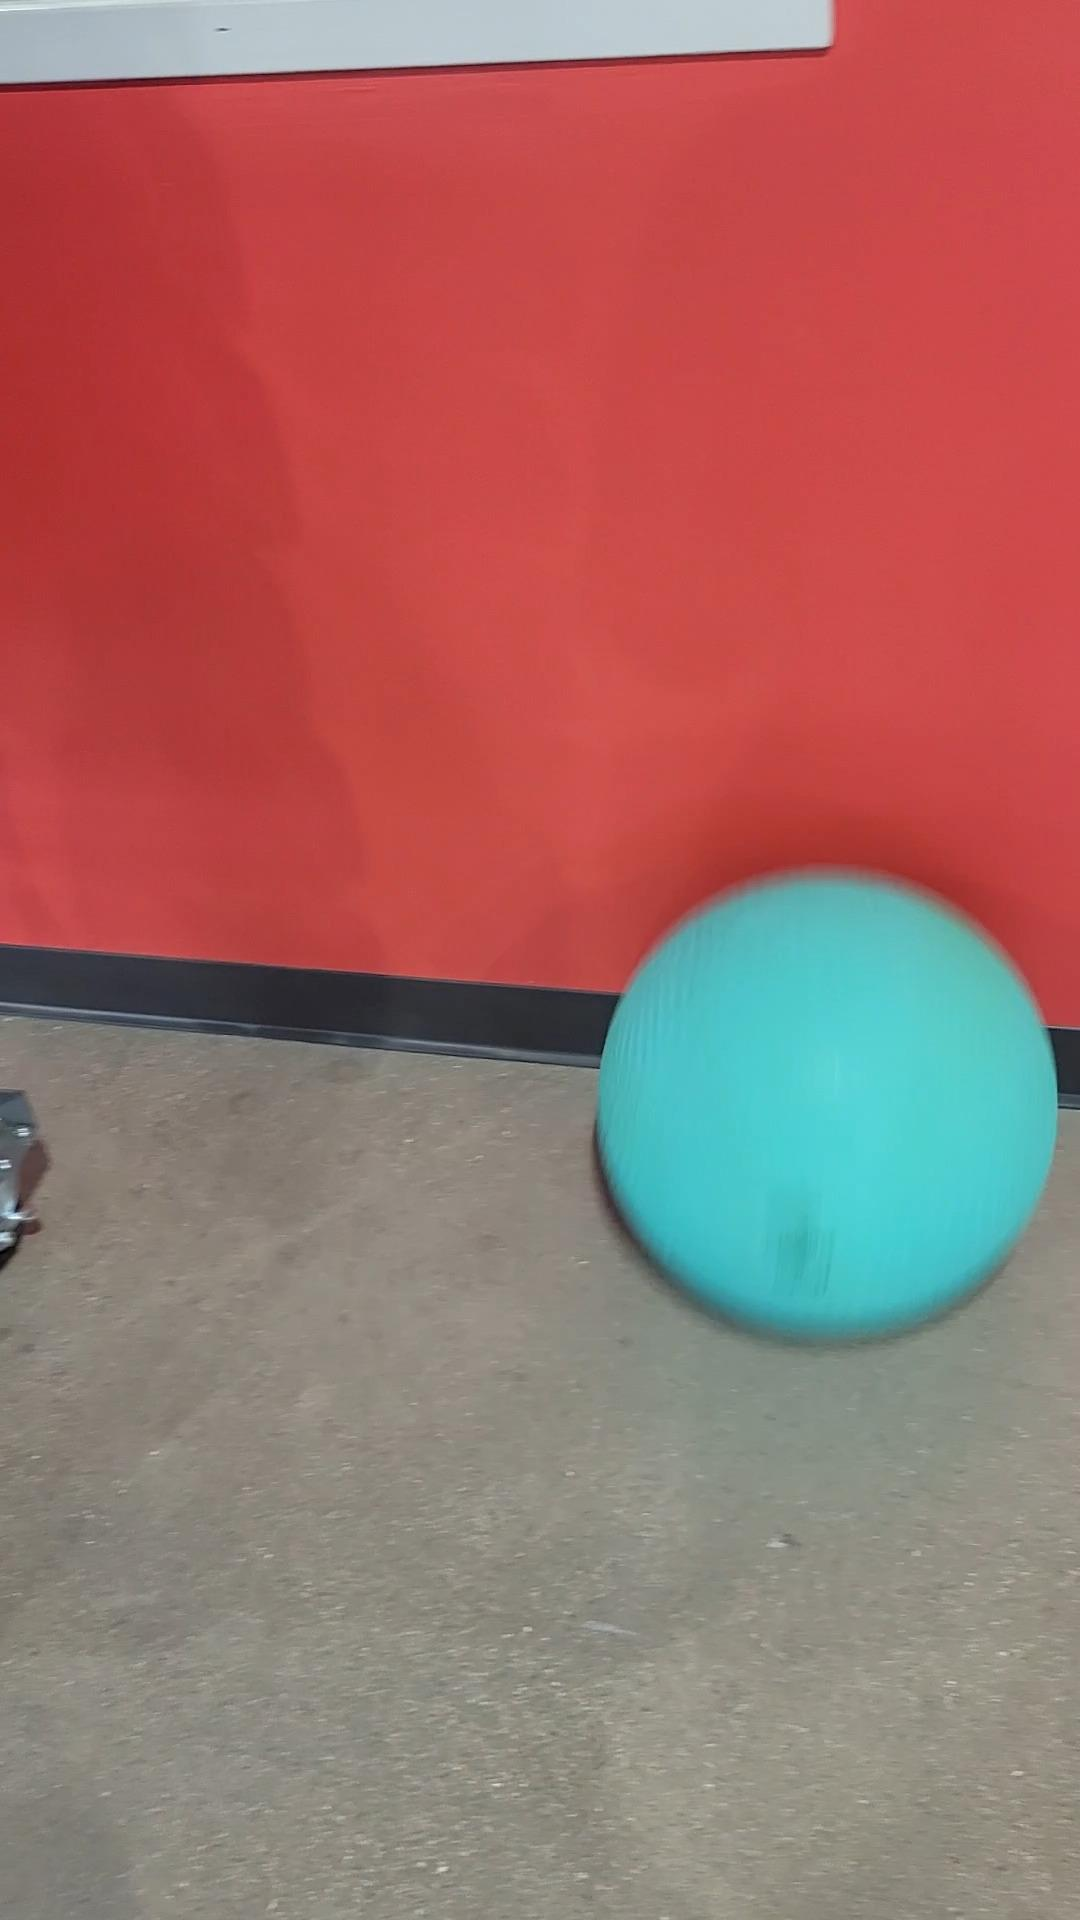algae: (601, 876, 1051, 1333)
